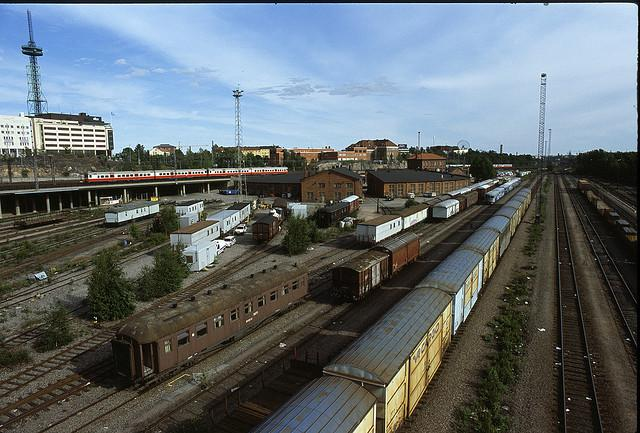Train: (85, 167, 637, 433), (116, 260, 310, 384), (356, 178, 497, 247), (334, 230, 422, 305), (431, 180, 499, 220), (105, 200, 161, 225), (486, 176, 523, 205)
